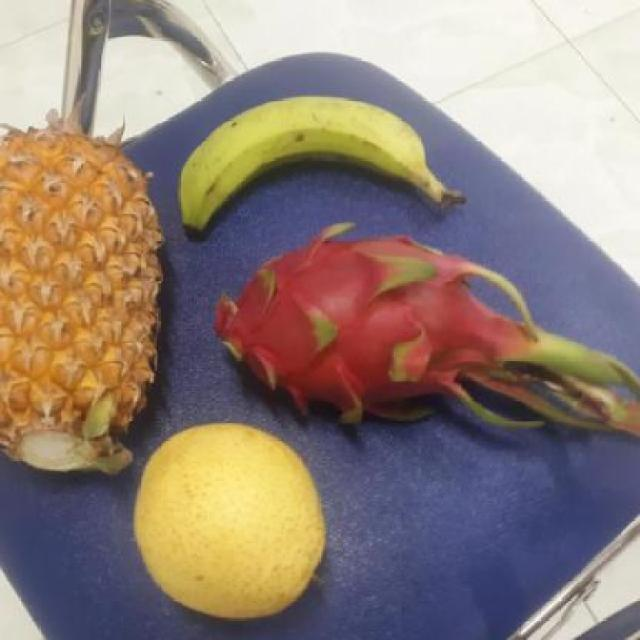banana: (164, 99, 438, 236)
dragon fruit: (192, 225, 503, 429)
pear: (123, 418, 325, 618)
pineapple: (0, 126, 166, 479)
